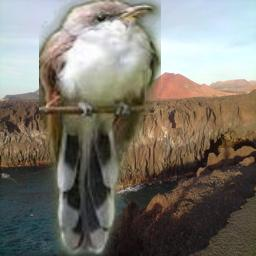Cuckoo: (39, 0, 161, 256)
